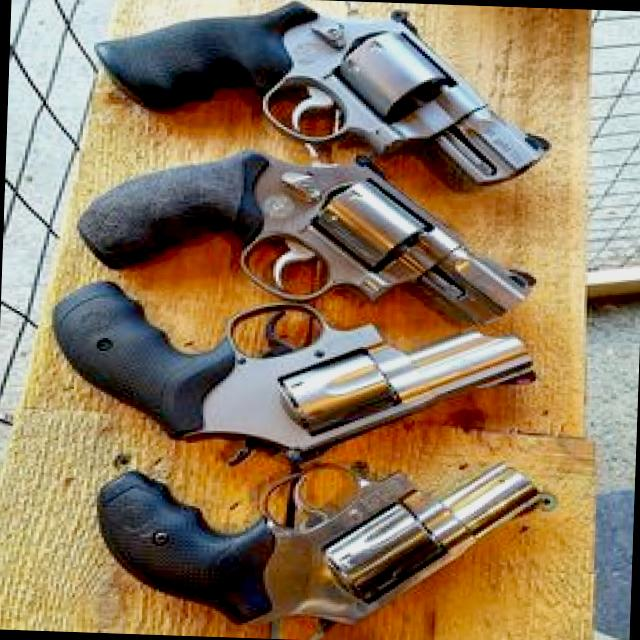revolver: (36, 425, 582, 640)
